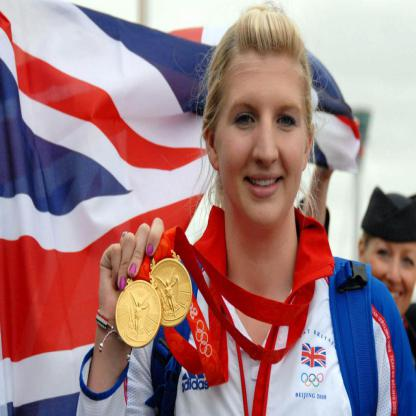face: (216, 64, 308, 228), (366, 227, 415, 323)
